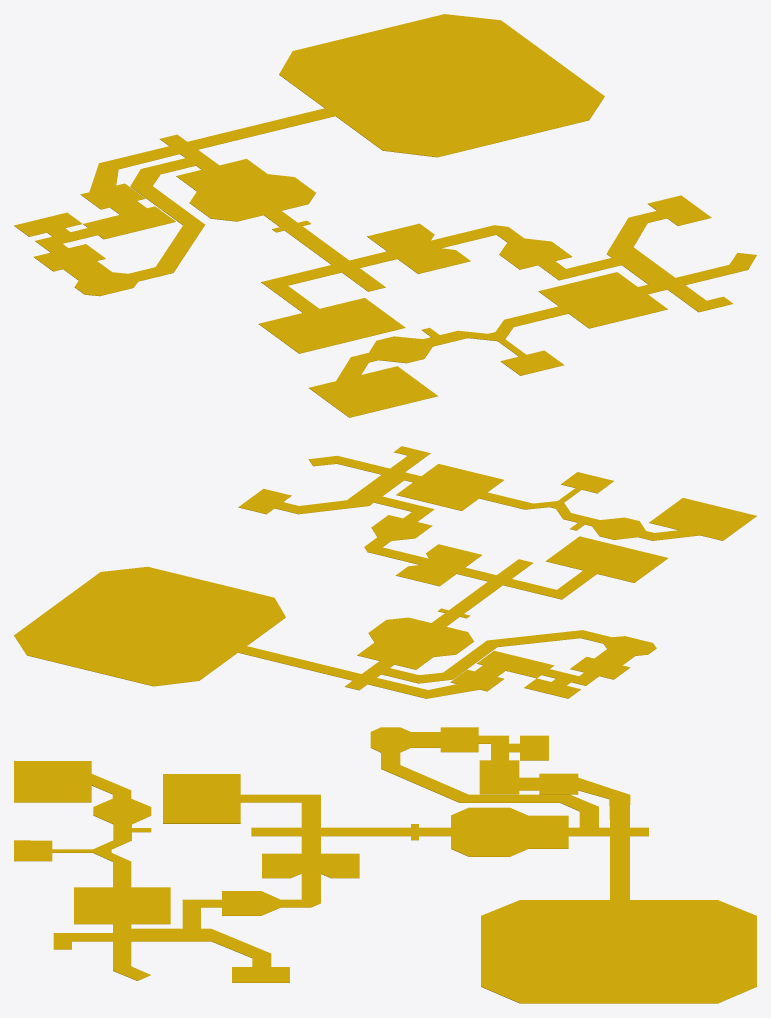
File: MapFloor.fbx
3 renders of one model, top to bottom at view 1: azimuth 30°, elevation 25°; view 2: azimuth 150°, elevation 25°; view 3: azimuth 270°, elevation 25°, orthographic. The views are drawn at different scales.
Parts seen in each view (by area): view 1: pCube1; view 2: pCube1; view 3: pCube1.
Part boxes in pixels (<box>): pCube1: <box>14,14,756,417</box>; pCube1: <box>14,446,756,698</box>; pCube1: <box>14,727,756,1003</box>.
Bounding box in the file's own units: 0.8529 × 0.000788 × 0.9705.
